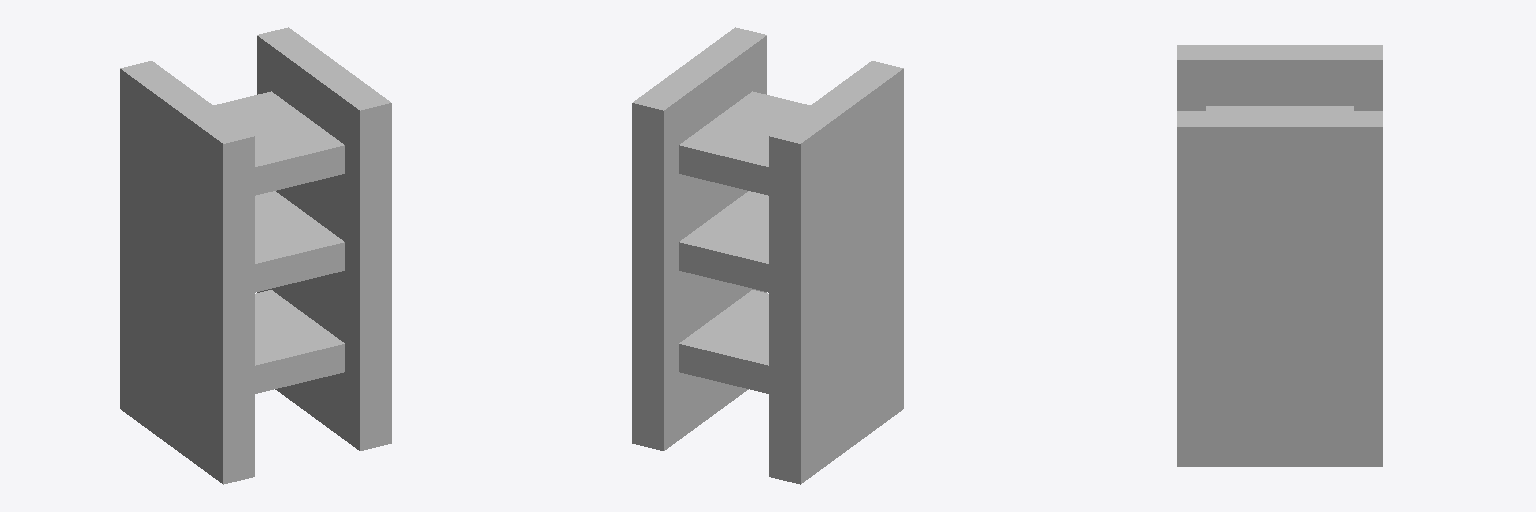
Rendered from Ladder 3 subdivisions.obj.
The picture shows the model from 3 angles: view 1: azimuth 30°, elevation 25°; view 2: azimuth 150°, elevation 25°; view 3: azimuth 270°, elevation 25°; orthographic projection.
Visible parts, largest first — view 1: pCube117; view 2: pCube117; view 3: pCube117.
Boxes of the visible parts, x1,y1,x2,y2 form: pCube117: [120, 27, 391, 484]; pCube117: [632, 27, 903, 484]; pCube117: [1177, 45, 1382, 466].
Bounding box in the file's own units: 0.9425 × 1.82 × 1.